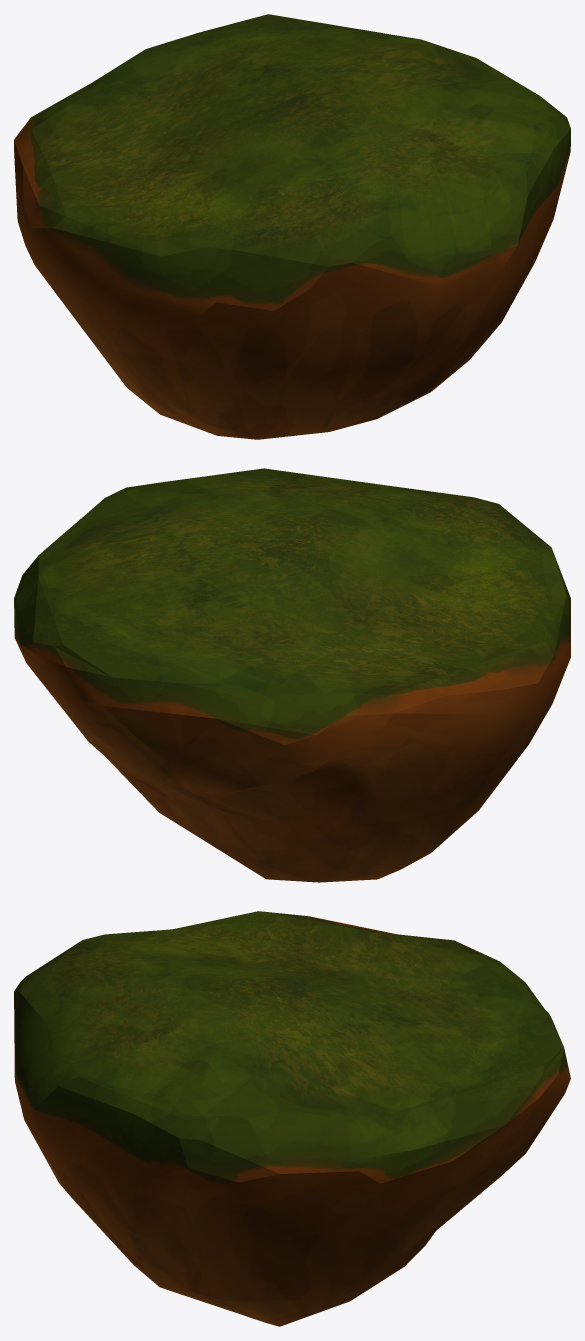
File: Islands.fbx
The picture shows the model from 3 angles, top to bottom: view 1: azimuth 30°, elevation 25°; view 2: azimuth 150°, elevation 25°; view 3: azimuth 270°, elevation 25°; orthographic projection.
Visible parts, largest first — view 1: Island01; view 2: Island01; view 3: Island01.
Boxes of the visible parts, <box> form: Island01: <box>14,14,570,439</box>; Island01: <box>14,468,570,882</box>; Island01: <box>14,911,570,1326</box>.
Size of the model in its own units: 358 by 225 by 344.
Materials: 1 (1 with a texture image).
